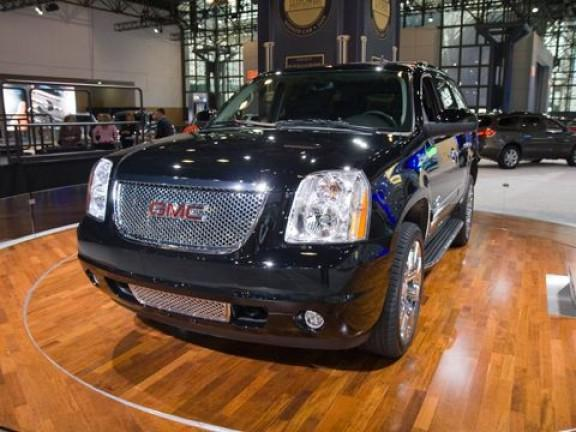Car: (69, 41, 502, 374), (466, 101, 576, 180)
